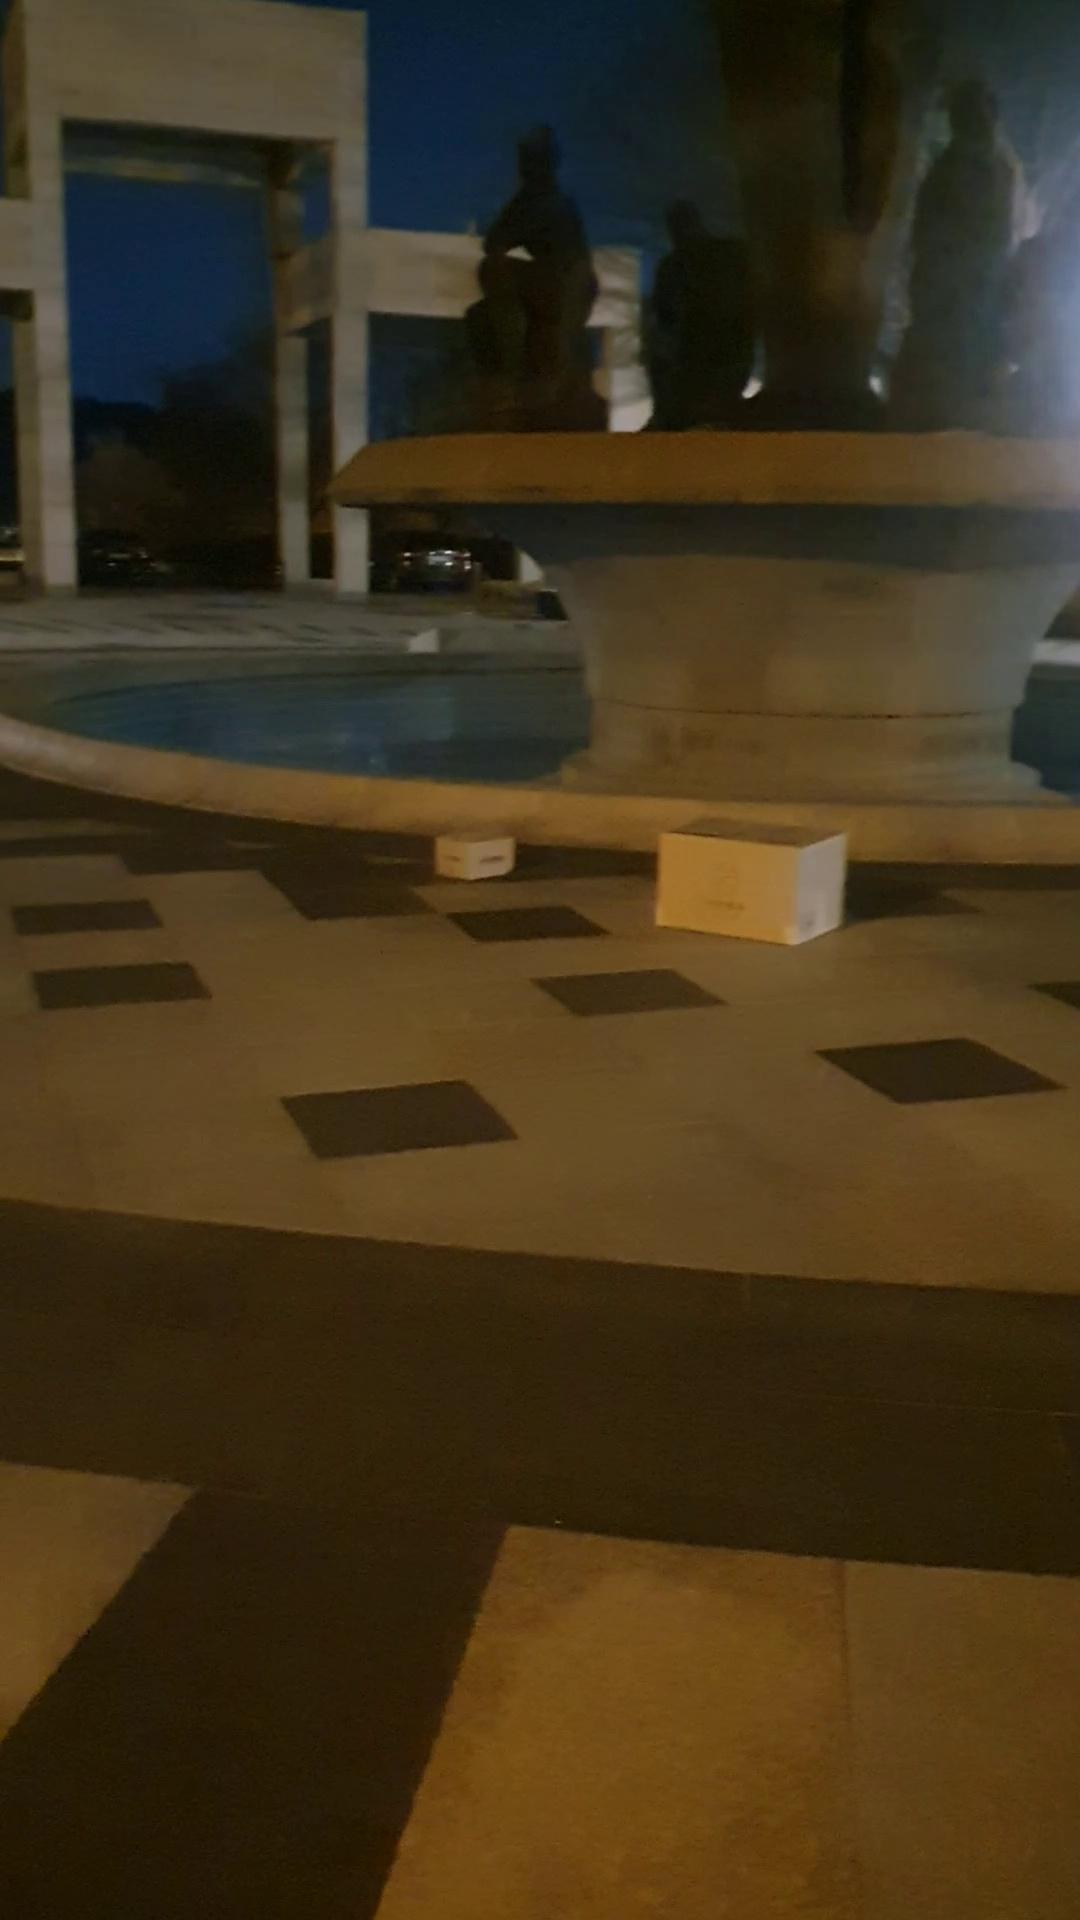Box: (646, 803, 865, 955), (423, 808, 527, 890)
